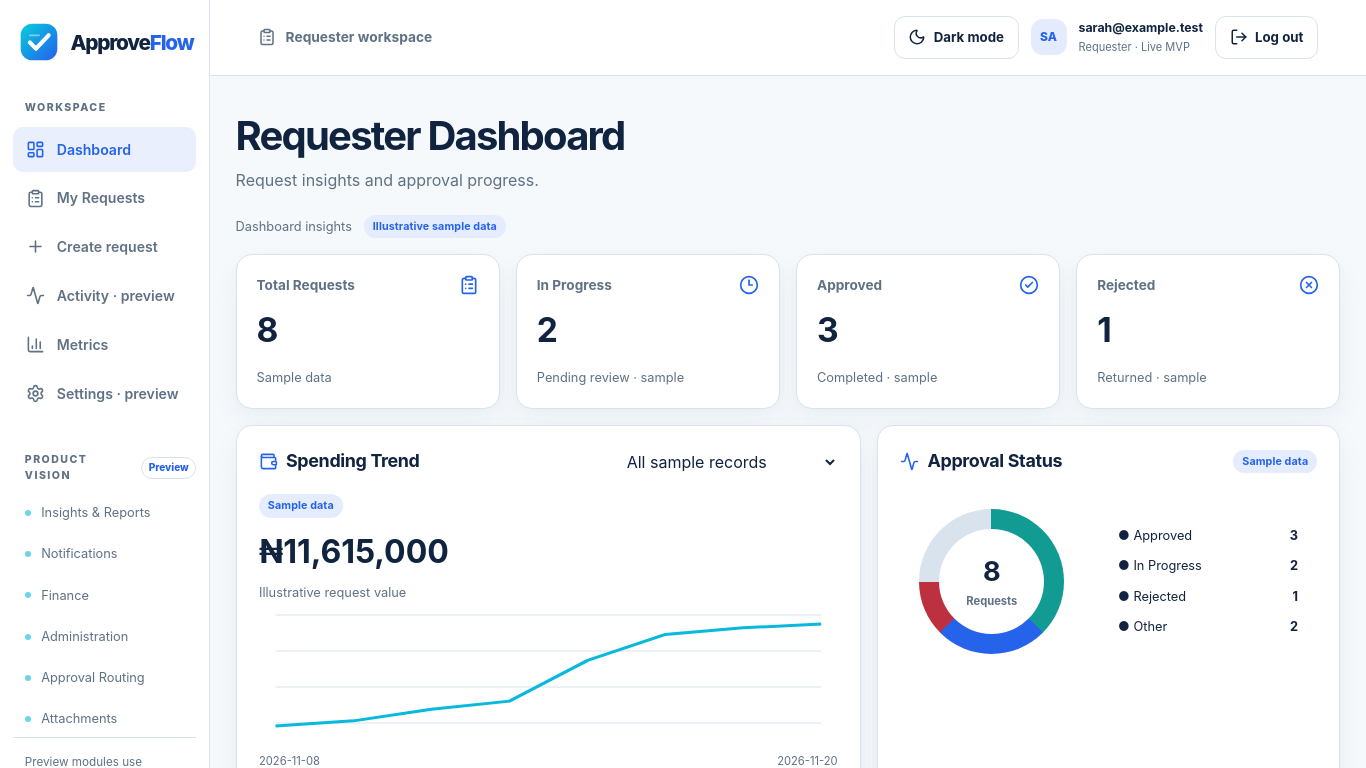
G3 user journeys › navigates between the dashboard and My Requests with the correct active link
This screenshot has width=1366, height=768.
Click the link "My Requests" at (85, 198), box [26,188,145,208]
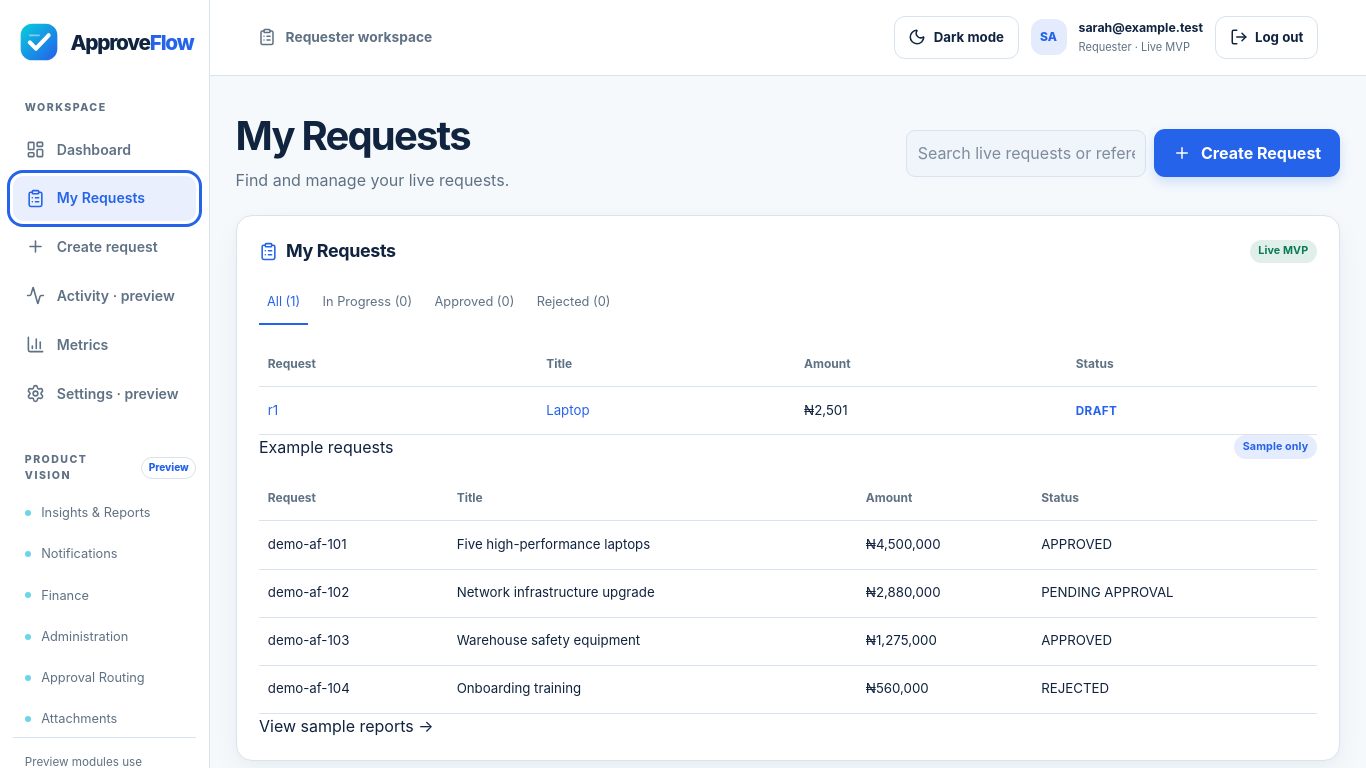
Expected: the 1st heading "My Requests" is shown, [236,113,509,159]
Expected: the link "Laptop" is shown, [546,402,590,418]
Click the link "Dashboard" at (78, 149), box [26,140,131,159]
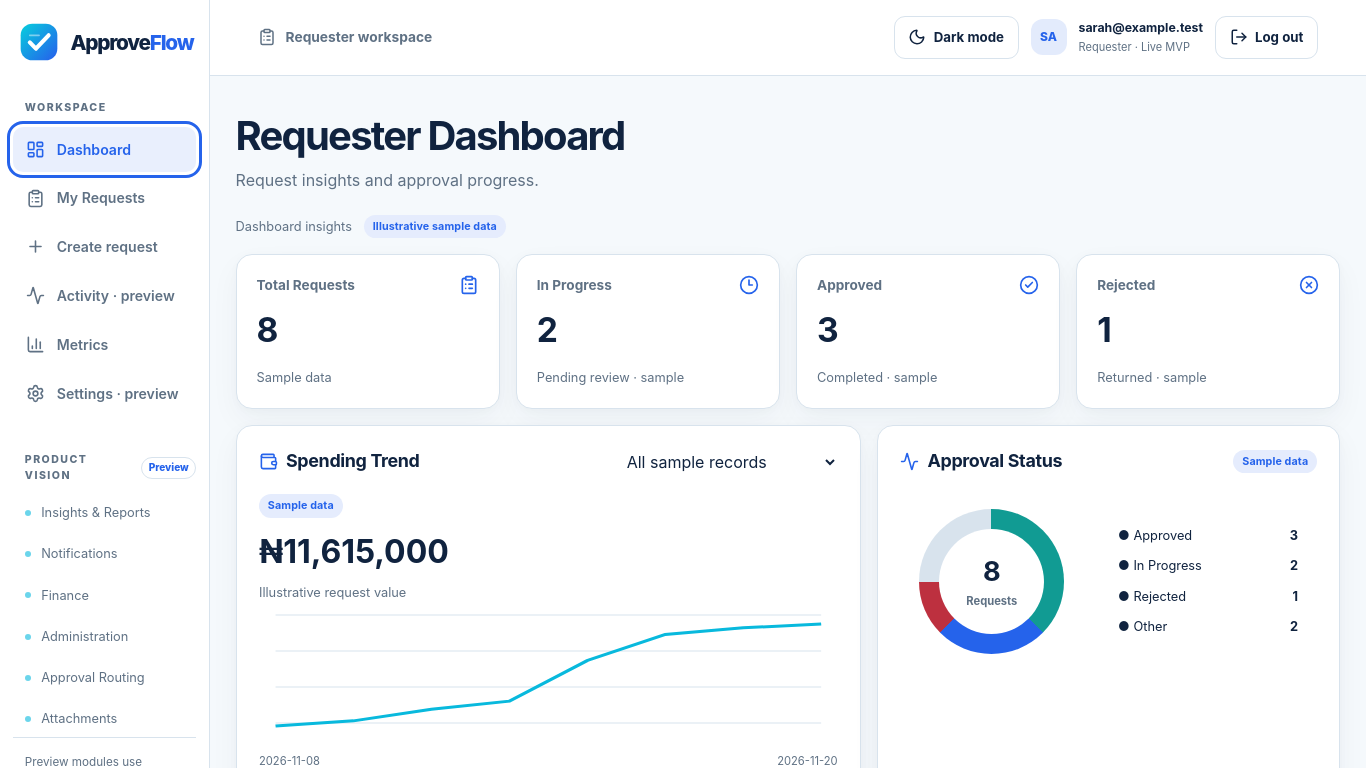
Expected: the heading "Requester Dashboard" is shown, [236,113,624,159]
Expected: the link "Laptop" is gone
